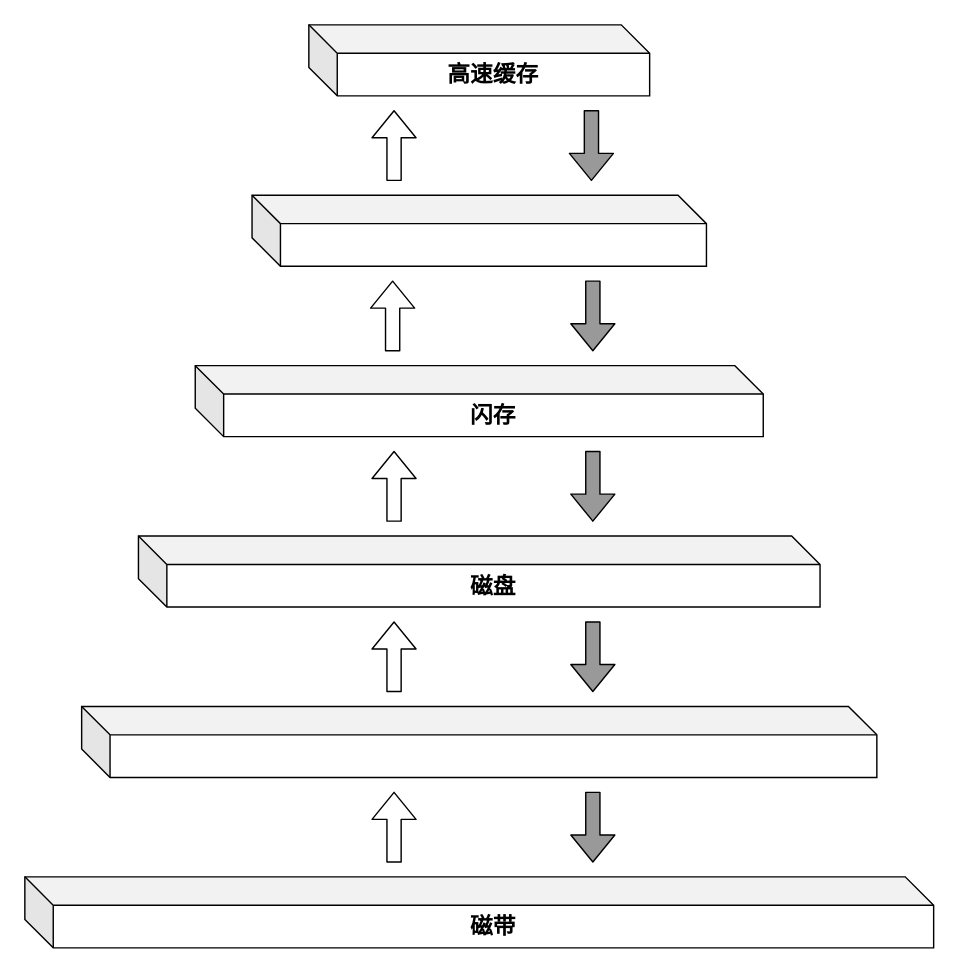
Image size: 959x973. Some labels were removed from this diagram. The shapes that lost their labels are listed below. From the top down, each one's centre as x and y in pixels, then its label:
the point at 478,230: 主存
the point at 478,741: 光盘
